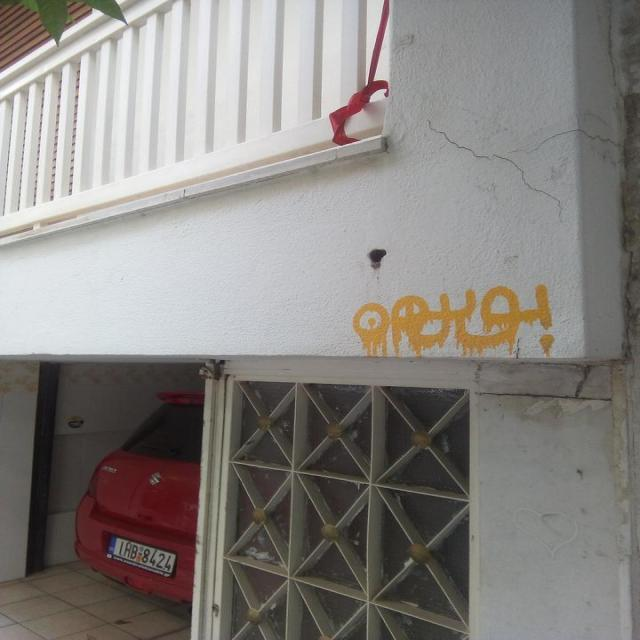nonspitting: (354, 282, 556, 356)
